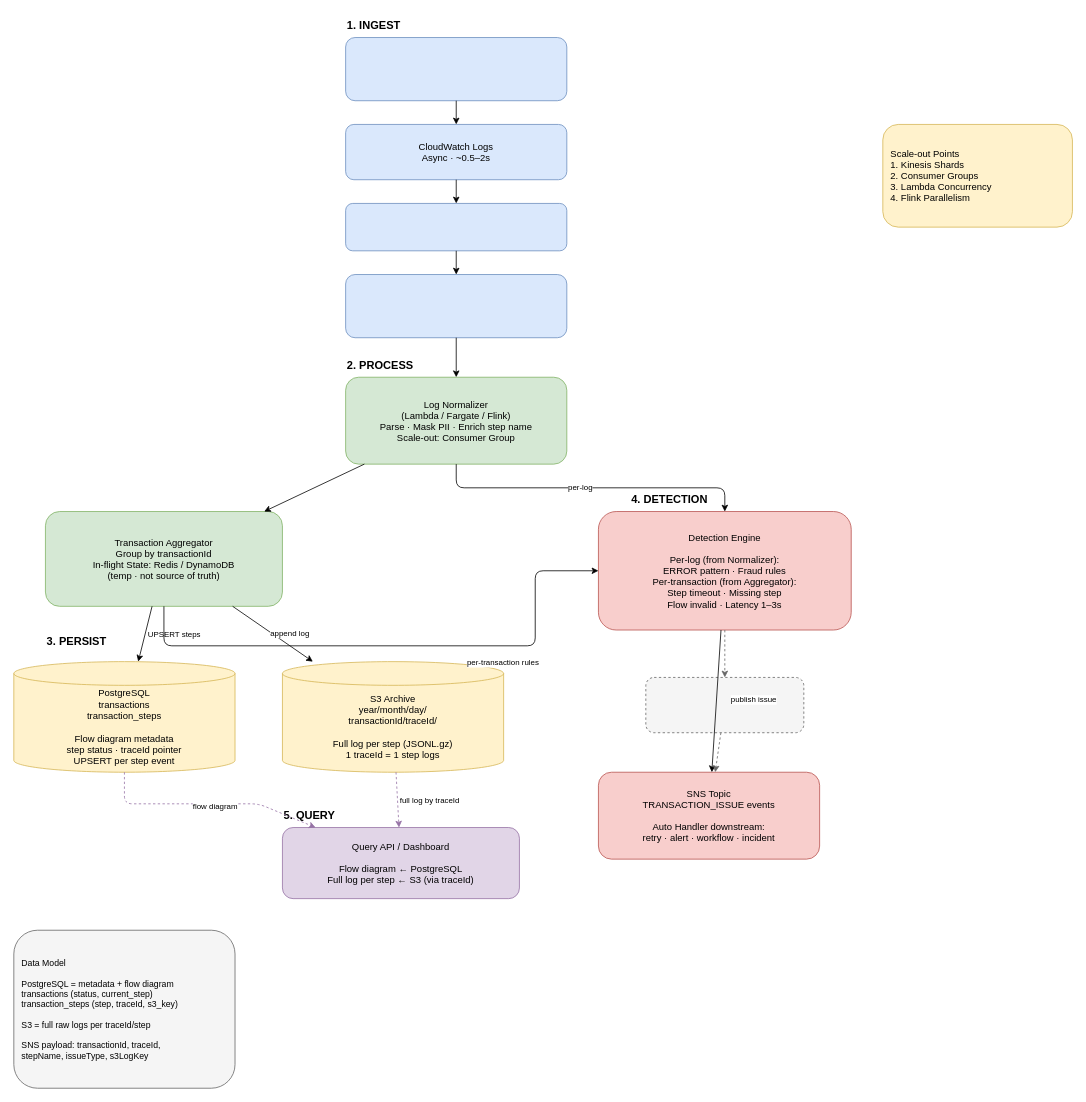
This 1086x1102 diagram has some shape labels left out. Each missing label, with the box of its shape:
Application / Microservices JSON Logs transactionId · traceId · step · level: (345, 37, 567, 101)
EventBridge (optional routing): (645, 677, 804, 733)
Kinesis Data Streams Scale-out: Shards · Latency: ms: (345, 274, 567, 338)
Subscription Filter: (345, 203, 567, 251)
